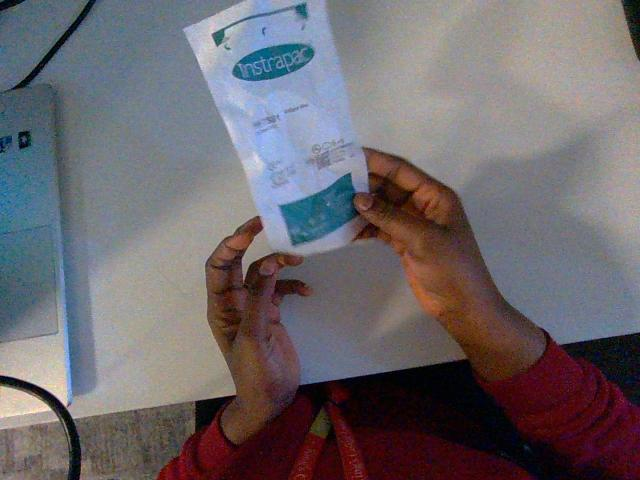gallipot: (185, 0, 367, 254)
